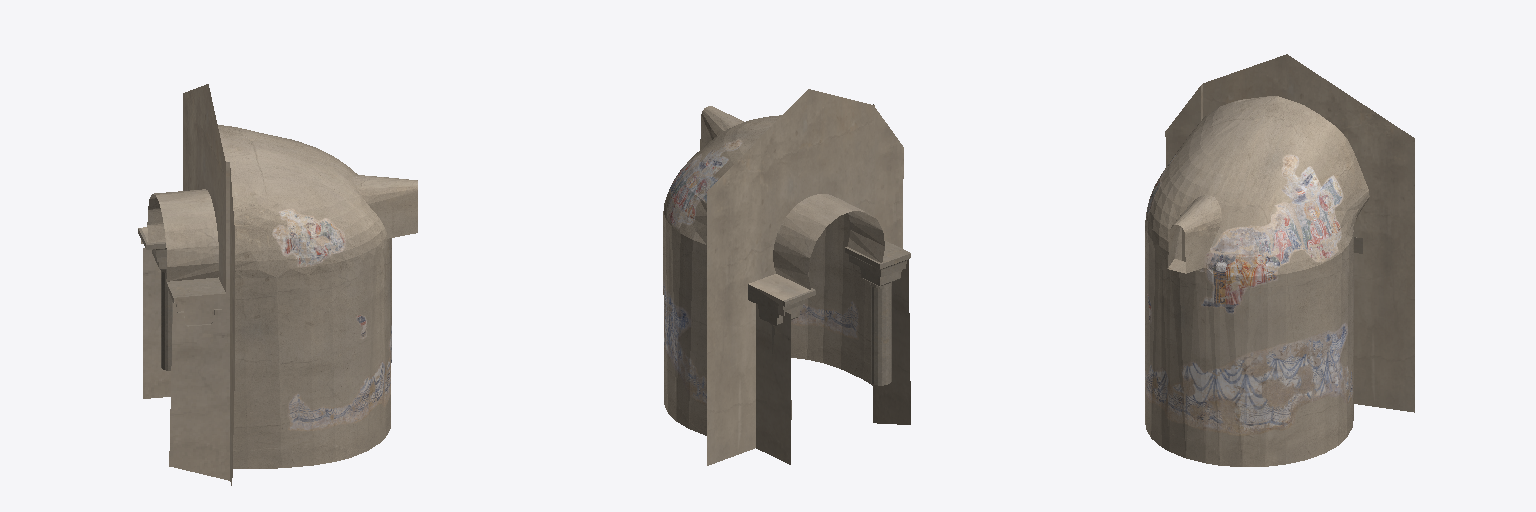
3 renders of one model, left to right at view 1: azimuth 30°, elevation 25°; view 2: azimuth 150°, elevation 25°; view 3: azimuth 270°, elevation 25°, orthographic.
Visible parts, largest first — view 1: PEDRET_XII-baked-absN; view 2: PEDRET_XII-baked-absN; view 3: PEDRET_XII-baked-absN.
Part boxes in pixels (left/top/right/bottom): PEDRET_XII-baked-absN: left=138, top=84, right=417, bottom=485; PEDRET_XII-baked-absN: left=663, top=89, right=910, bottom=465; PEDRET_XII-baked-absN: left=1145, top=54, right=1414, bottom=466.
Size of the model in its own units: 2.82 by 4.23 by 2.86.
1 materials, 1 textured.